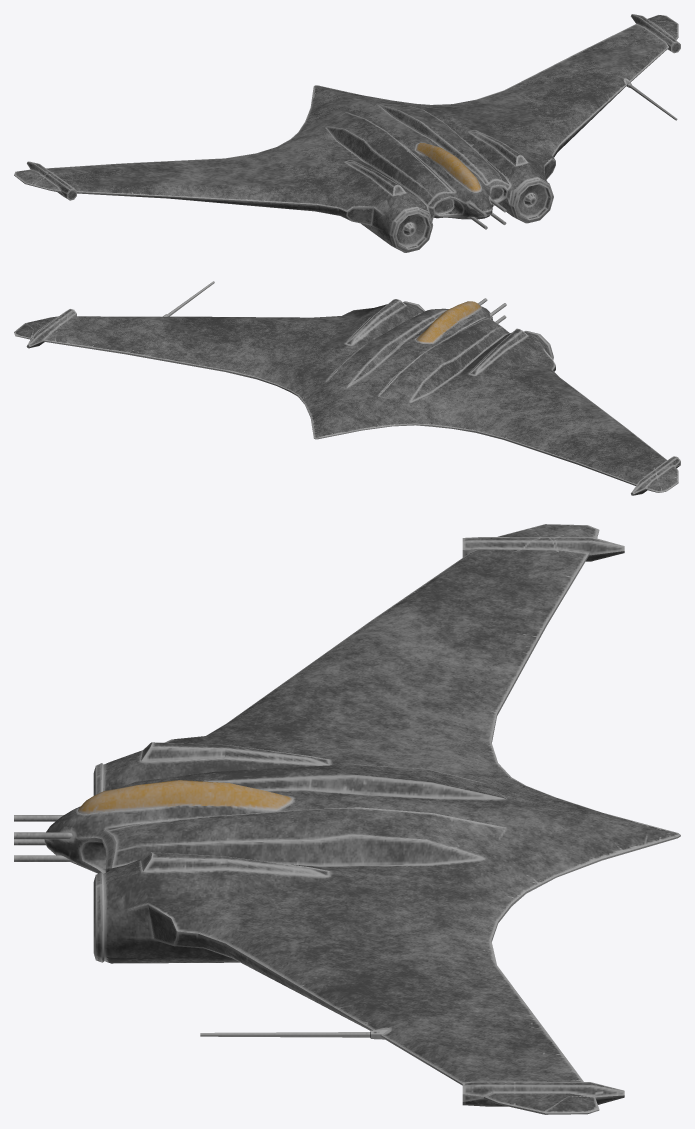
3 views of the same model, one above another, from view 1: azimuth 30°, elevation 25°; view 2: azimuth 150°, elevation 25°; view 3: azimuth 270°, elevation 25° (orthographic). The views are drawn at different scales.
Visible parts, largest first — view 1: Wolfenstein_Nurflügler; view 2: Wolfenstein_Nurflügler; view 3: Wolfenstein_Nurflügler.
Part boxes in pixels (box(x1,y1,x2,y2)): Wolfenstein_Nurflügler: box(14, 14, 680, 252); Wolfenstein_Nurflügler: box(14, 281, 680, 495); Wolfenstein_Nurflügler: box(14, 524, 680, 1114).
Size of the model in its own units: 19.71 by 1.9 by 9.43.
1 material, 1 textured.
